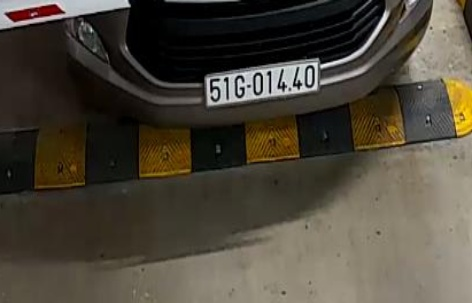plate: (201, 51, 326, 112)
